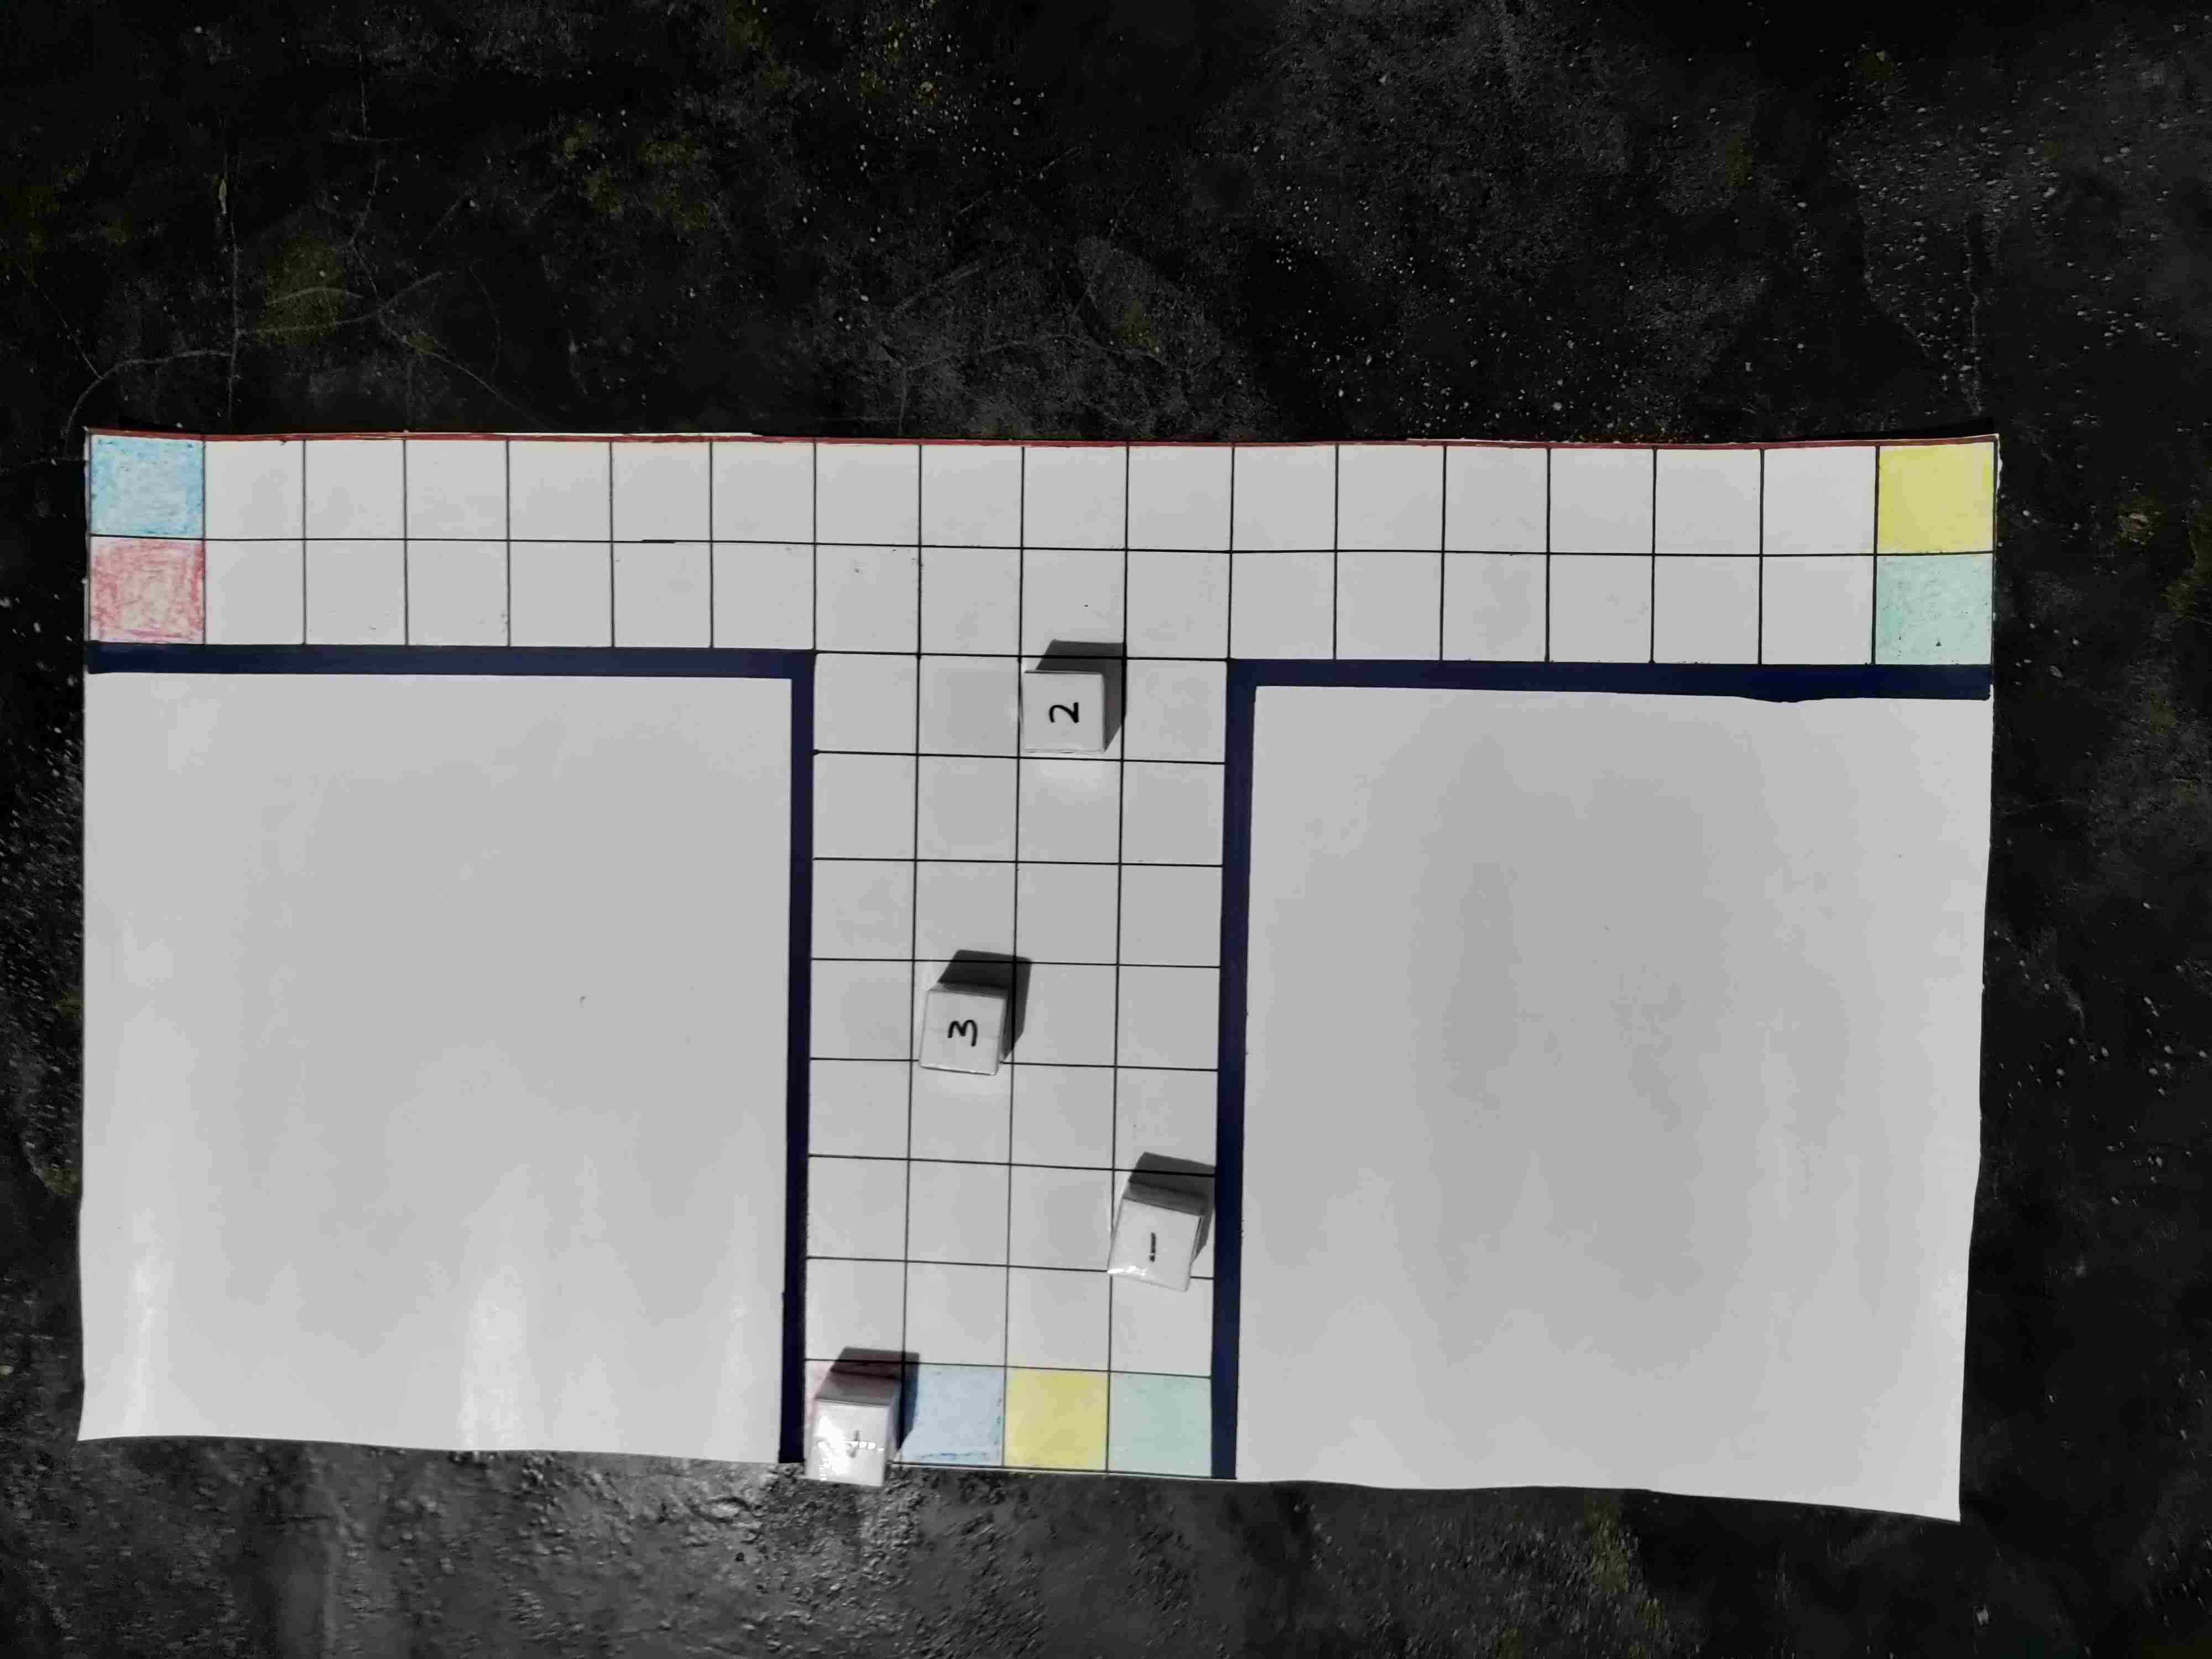arena: (85, 427, 1984, 1478)
bot: (810, 1392, 890, 1495), (1104, 1201, 1197, 1288), (923, 985, 1007, 1075), (1026, 674, 1109, 755)
